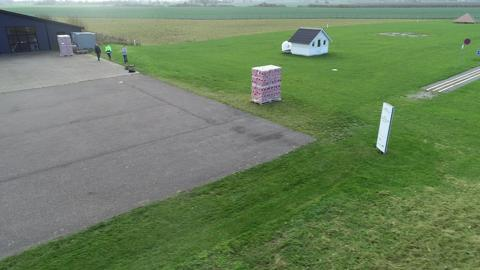RockwoolPallet: (57, 34, 74, 58)
